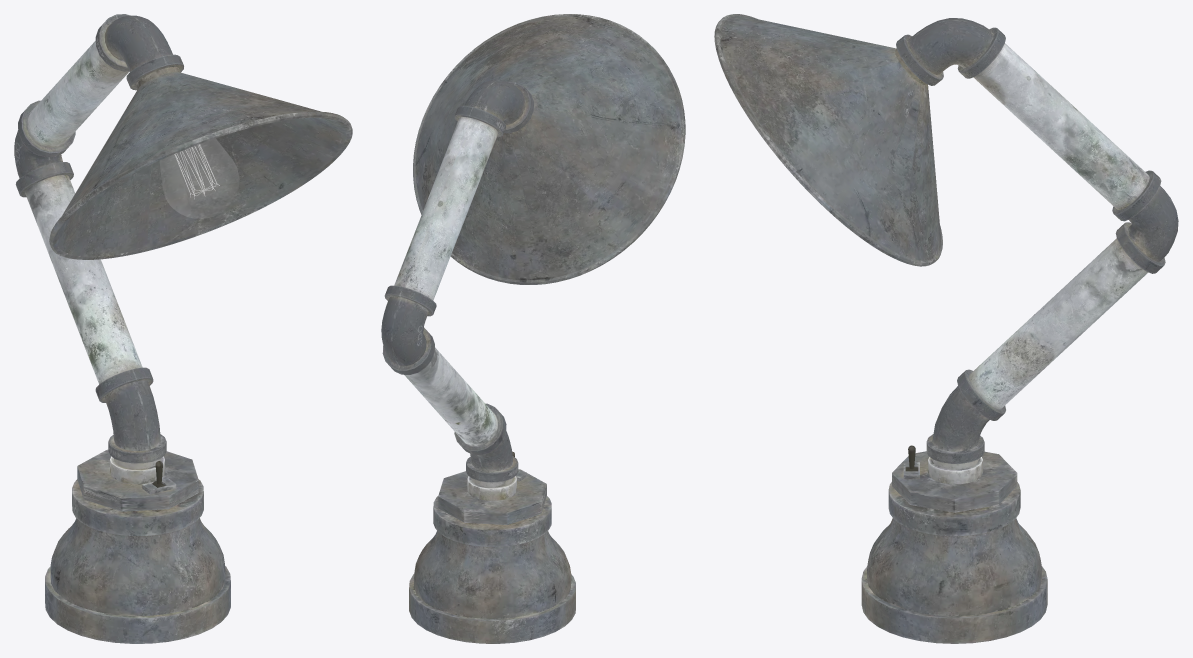
File: ph-pipe-lamp.glb
3 renders of one model, left to right at view 1: azimuth 30°, elevation 25°; view 2: azimuth 150°, elevation 25°; view 3: azimuth 270°, elevation 25°, orthographic. The views are drawn at different scales.
Parts seen in each view (by area): view 1: industrial_pipe_lamp, industrial_pipe_lamp_bulb; view 2: industrial_pipe_lamp; view 3: industrial_pipe_lamp.
Part boxes in pixels (box(x1,y1,x2,y2)): industrial_pipe_lamp: box(14, 14, 352, 643); industrial_pipe_lamp_bulb: box(160, 139, 239, 218); industrial_pipe_lamp: box(381, 14, 685, 643); industrial_pipe_lamp: box(714, 14, 1178, 643).
Size of the model in its own units: 0.183 by 0.3641 by 0.2621.
2 materials, 1 textured.
